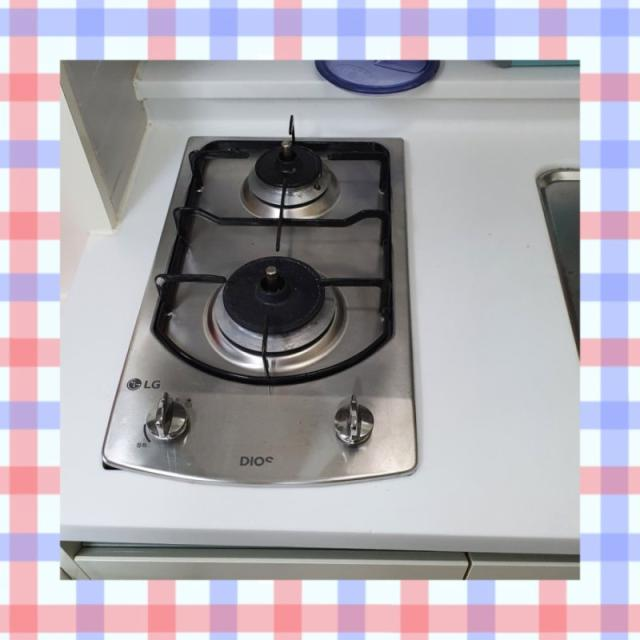knob_ON: (191, 122, 406, 387)
